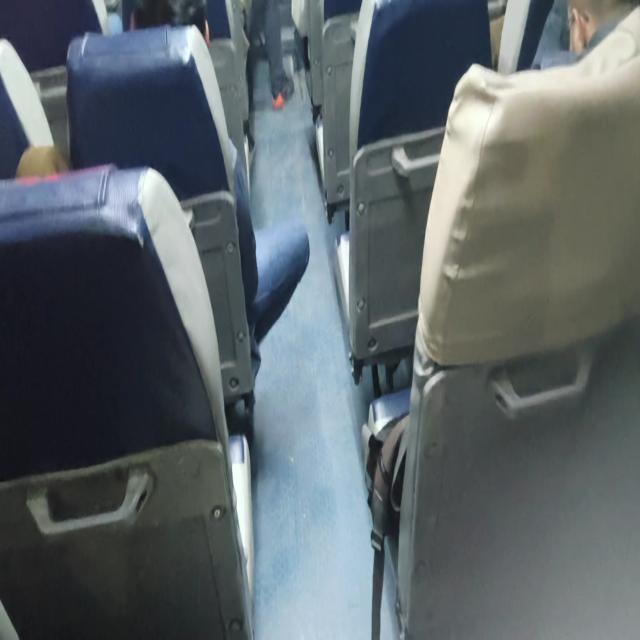person: (547, 0, 640, 78), (124, 0, 215, 58)
